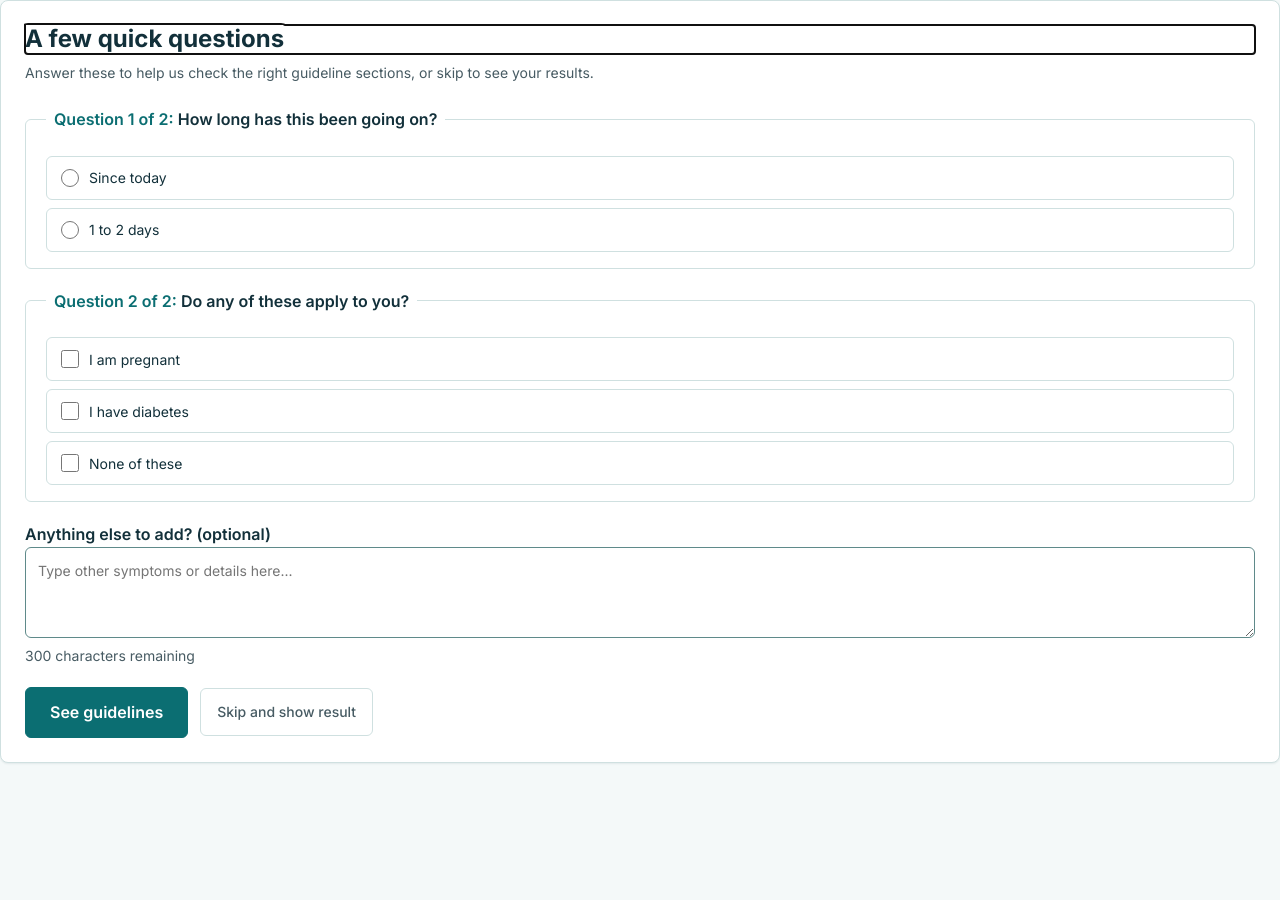
Test case: IntakeForm › limits extra text to 300 characters and updates live counter
Expected: the text "300 characters remaining" is shown, [25, 645, 195, 667]
Type "Mild fever at night" into the text box labelled "Anything else to add? (optional)".
click(640, 593); type("Mild fever at night")  # box [25, 547, 1255, 638]
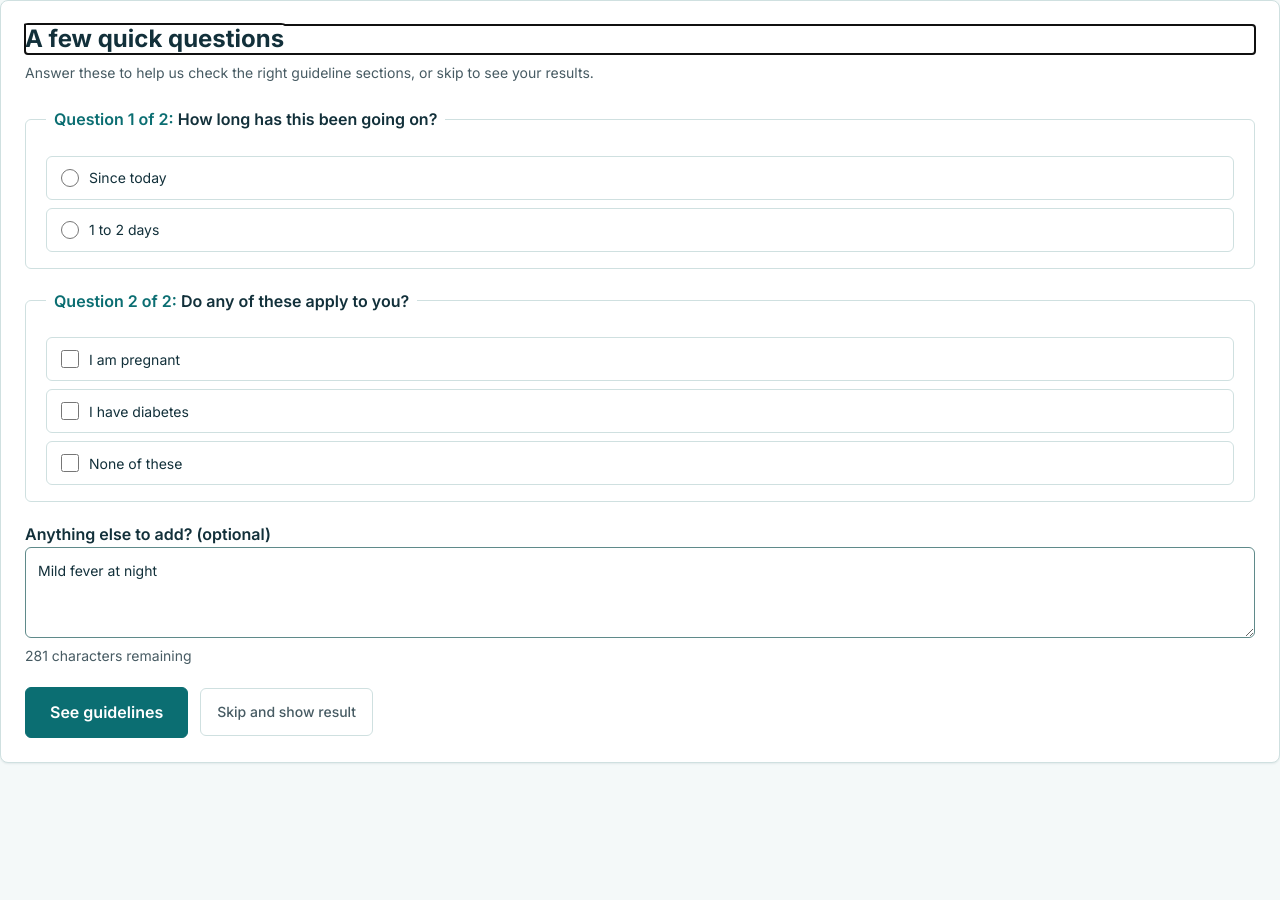
Expected: the text "281 characters remaining" is shown, [25, 645, 192, 667]
